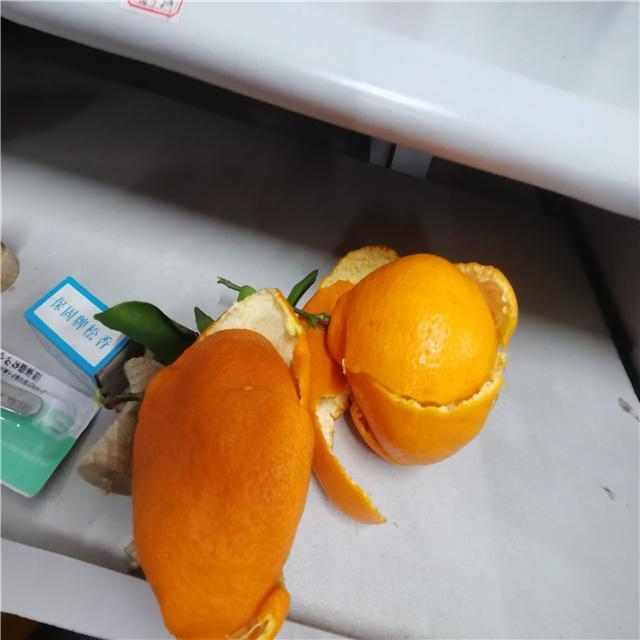orange peel: (130, 287, 316, 638), (302, 244, 520, 468)
